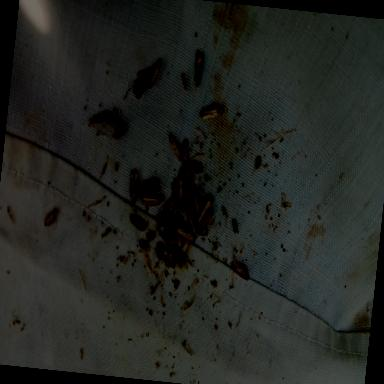pbw: (158, 197, 176, 229), (196, 207, 213, 238), (147, 58, 163, 90), (181, 204, 198, 234), (88, 110, 112, 130), (167, 134, 184, 162), (197, 195, 214, 223), (230, 260, 251, 282), (200, 104, 222, 124), (187, 186, 201, 216), (162, 234, 176, 264), (128, 171, 140, 205), (193, 51, 204, 88), (174, 227, 196, 245), (129, 215, 149, 233), (183, 166, 194, 198), (181, 142, 190, 176), (168, 233, 186, 249), (139, 196, 163, 208), (181, 181, 192, 207), (44, 209, 58, 229), (176, 174, 185, 204), (144, 182, 161, 195), (194, 224, 209, 237), (145, 232, 156, 240)
